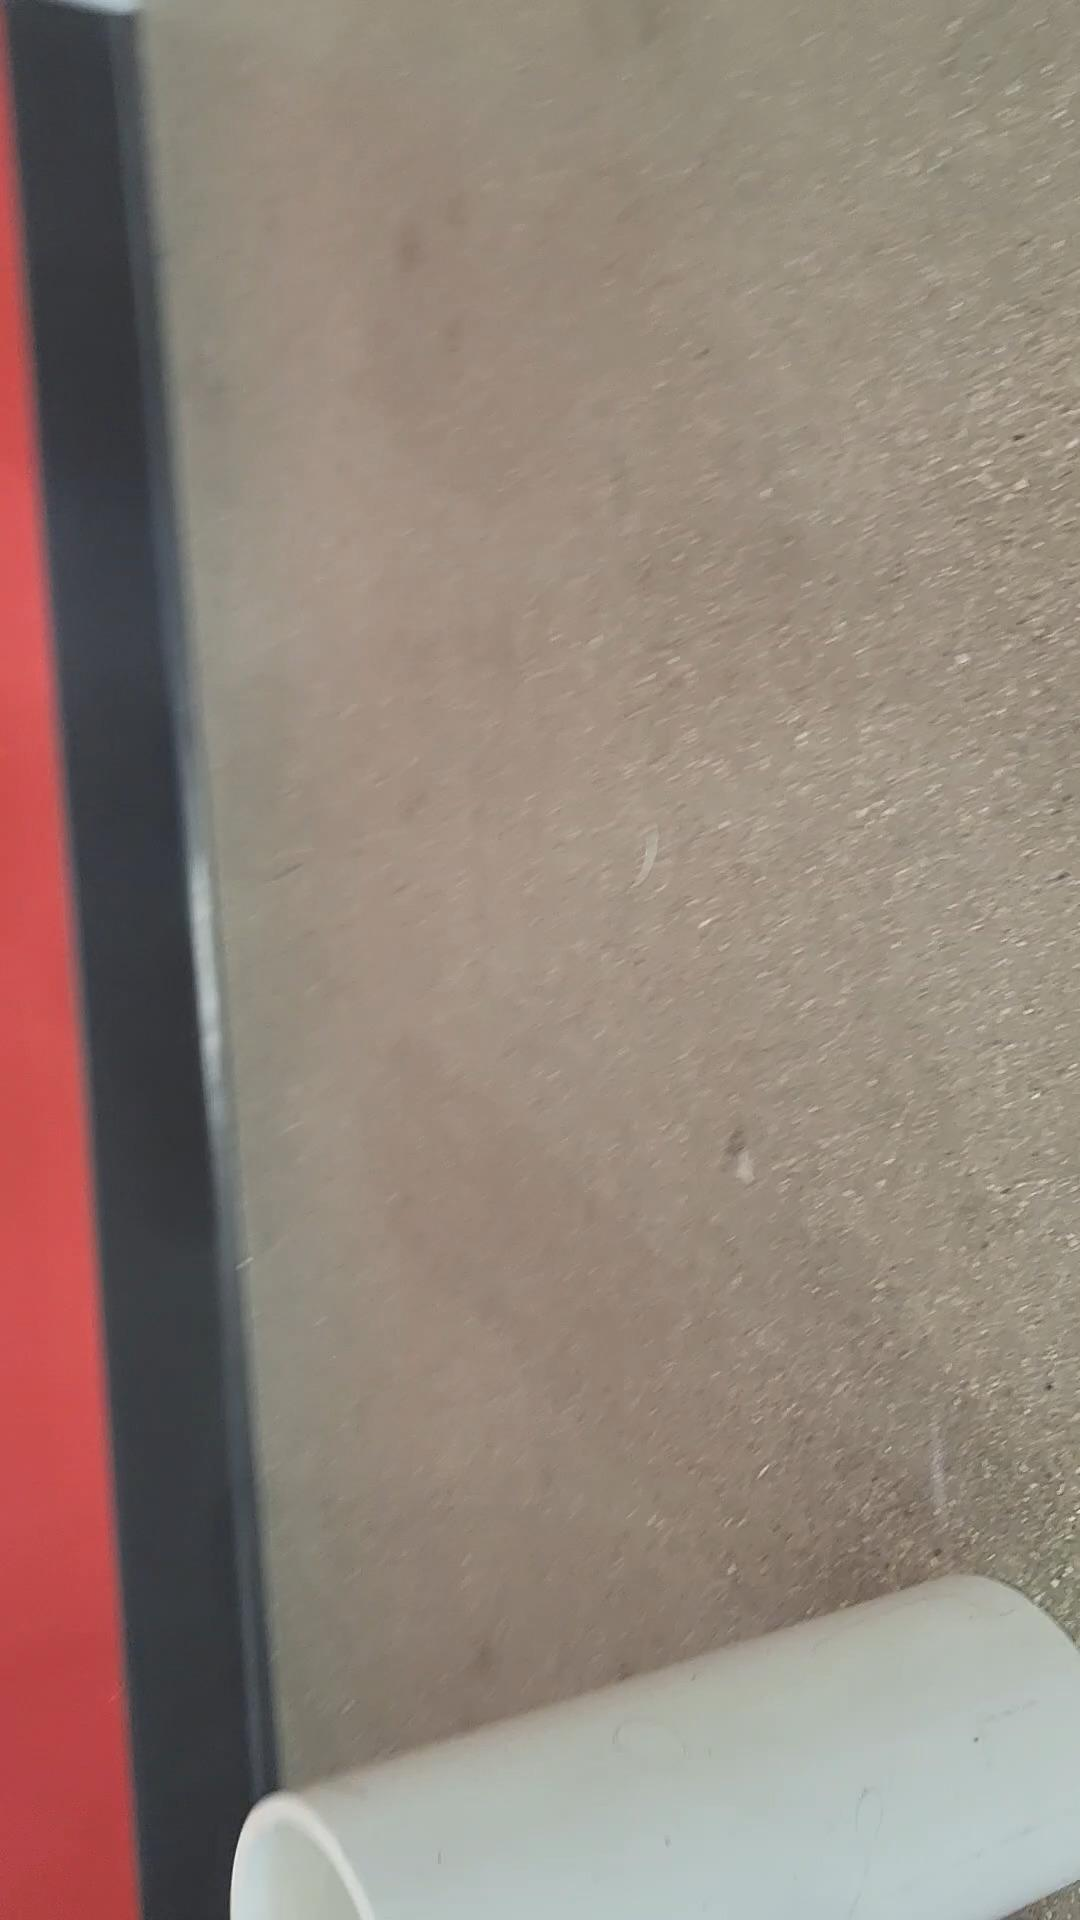coral: (229, 1553, 1080, 1920)
